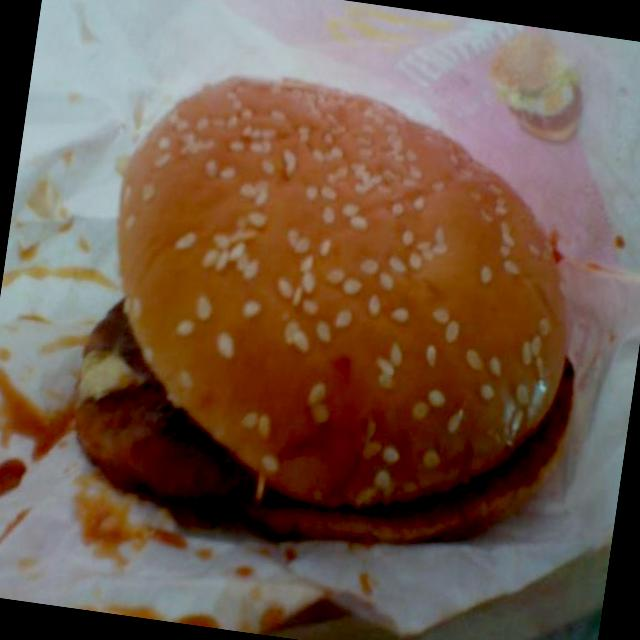Hamburger: (55, 47, 618, 578)
